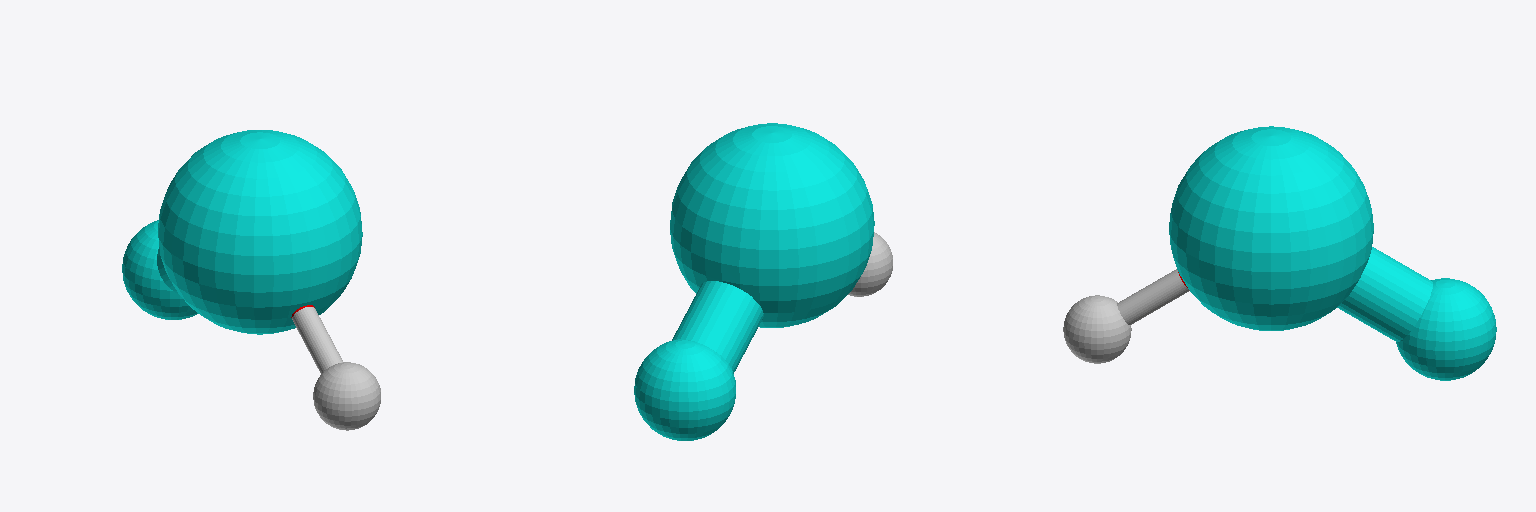
Rendered from water_obj.obj.
The picture shows the model from 3 angles: view 1: azimuth 30°, elevation 25°; view 2: azimuth 150°, elevation 25°; view 3: azimuth 270°, elevation 25°; orthographic projection.
Visible parts, largest first — view 1: O01*highlight, H03, H02*highlight, O01-H03; view 2: O01*highlight, H02*highlight, O01*H02*highlight, H03; view 3: O01*highlight, H02*highlight, O01*H02*highlight, H03, O01-H03.
Boxes of the visible parts, x1=… form: O01*highlight: x1=158, y1=130, x2=362, y2=334; H03: x1=313, y1=362, x2=380, y2=430; H02*highlight: x1=122, y1=220, x2=197, y2=319; O01-H03: x1=291, y1=305, x2=342, y2=373; O01*highlight: x1=670, y1=123, x2=874, y2=327; H02*highlight: x1=634, y1=339, x2=735, y2=440; O01*H02*highlight: x1=672, y1=281, x2=763, y2=373; H03: x1=848, y1=232, x2=892, y2=296; O01*highlight: x1=1169, y1=126, x2=1373, y2=330; H02*highlight: x1=1396, y1=278, x2=1496, y2=380; O01*H02*highlight: x1=1337, y1=247, x2=1432, y2=341; H03: x1=1063, y1=295, x2=1131, y2=363; O01-H03: x1=1117, y1=269, x2=1189, y2=324.
Bounding box in the file's own units: 0.96 × 1.24 × 2.03.